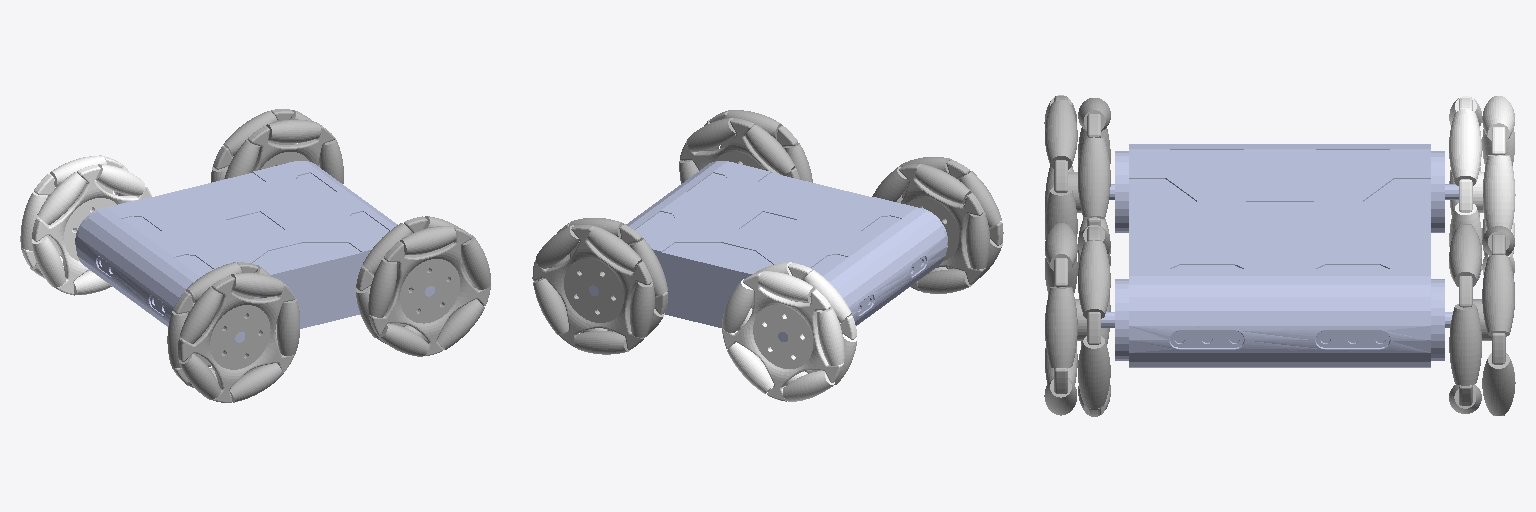
The robot description file, URDF, robot "my_rb":
<?xml version="1.0"?>
<robot name="my_rb">
  <link name="base_link">
    <inertial>
      <origin xyz="-1.98493976501235E-05 5.55111512312578E-17 -0.0175252786860416" rpy="0 0 0" />
      <mass value="1" />
      <inertia ixx="0.0001" ixy="0" ixz="0" iyy="0.0003" iyz="0" izz="0.0002" />
    </inertial>
    <visual>
      <origin xyz="0 0 0" rpy="0 0 0" />
      <geometry>
        <mesh filename="package://my_rb/meshes/base_link.STL" />
      </geometry>
      <material name="">
        <color rgba="0.792156862745098 0.819607843137255 0.933333333333333 1" />
      </material>
    </visual>
    <collision>
      <origin xyz="0 0 0" rpy="0 0 0" />
      <geometry>
        <mesh filename="package://my_rb/meshes/base_link.STL" />
      </geometry>
    </collision>
  </link>

  <!-- Adjusted friction and gravity settings in Gazebo -->
  <gazebo reference="base_link">
    <mu1>1000</mu1>
    <mu2>1000</mu2>
    <gravity>1</gravity>
    <material>Gazebo/Green</material>
  </gazebo>

  <!-- Adjusted dynamics and friction for wheels -->
  <gazebo reference="onewheel">
    <mu1>1000</mu1>
    <mu2>1000</mu2>
    <material>Gazebo/Grey</material>
  </gazebo>

  <gazebo reference="twowheel">
    <mu1>1000</mu1>
    <mu2>1000</mu2>
    <material>Gazebo/Grey</material>
  </gazebo>

  <gazebo reference="threewheel">
    <mu1>1000</mu1>
    <mu2>1000</mu2>
    <material>Gazebo/Grey</material>
  </gazebo>

  <gazebo reference="fourwheel">
    <mu1>1000</mu1>
    <mu2>1000</mu2>
    <material>Gazebo/Grey</material>
  </gazebo>

  <!-- onewheel -->
  <link name="onewheel">
    <inertial>
      <origin xyz="4.8699E-07 -4.1096E-05 -0.0065" rpy="0 0 0" />
      <mass value="0.1" />
      <inertia ixx="0.00002" ixy="0" ixz="0" iyy="0.00002" iyz="0" izz="0.0001" />
    </inertial>
    <visual>
      <origin xyz="0 0 0" rpy="0 0 0" />
      <geometry>
        <mesh filename="package://my_rb/meshes/onewheel.STL" />
      </geometry>
      <material name="">
        <color rgba="0.75294 0.75294 0.75294 1" />
      </material>
    </visual>
    <collision>
      <origin xyz="0 0 0" rpy="0 0 0" />
      <geometry>
        <mesh filename="package://my_rb/meshes/onewheel.STL" />
      </geometry>
    </collision>
  </link>

  <joint name="one_wheel" type="continuous">
    <origin xyz="0.055 -0.08 -0.0175" rpy="1.5708 0 0" />
    <parent link="base_link" />
    <child link="onewheel" />
    <axis xyz="0 0 1" />
    <limit effort="10" velocity="10" />
    <dynamics damping="5.0" friction="5.0" />
    <gazebo>
      <joint_friction>10.0</joint_friction>
    </gazebo>
  </joint>

  <!-- twowheel -->
  <link name="twowheel">
    <inertial>
      <origin xyz="-1.1222E-05 3.9616E-05 -0.0065" rpy="0 0 0" />
      <mass value="0.1" />
      <inertia ixx="0.00002" ixy="0" ixz="0" iyy="0.00002" iyz="0" izz="0.0001" />
    </inertial>
    <visual>
      <origin xyz="0 0 0" rpy="0 0 0" />
      <geometry>
        <mesh filename="package://my_rb/meshes/twowheel.STL" />
      </geometry>
      <material name="">
        <color rgba="0.75294 0.75294 0.75294 1" />
      </material>
    </visual>
    <collision>
      <origin xyz="0 0 0" rpy="0 0 0" />
      <geometry>
        <mesh filename="package://my_rb/meshes/twowheel.STL" />
      </geometry>
    </collision>
  </link>

  <joint name="two_wheel" type="continuous">
    <origin xyz="-0.055 -0.08 -0.0175" rpy="1.5708 0 0" />
    <parent link="base_link" />
    <child link="twowheel" />
    <axis xyz="0 0 1" />
    <limit effort="10" velocity="10" />
    <dynamics damping="5.0" friction="5.0" />
    <gazebo>
      <joint_friction>10.0</joint_friction>
    </gazebo>
  </joint>

  <!-- threewheel -->
  <link name="threewheel">
    <inertial>
      <origin xyz="-1.8154E-05 -3.706E-05 -0.0065" rpy="0 0 0" />
      <mass value="0.1" />
      <inertia ixx="0.00002" ixy="0" ixz="0" iyy="0.00002" iyz="0" izz="0.0001" />
    </inertial>
    <visual>
      <origin xyz="0 0 0" rpy="0 0 0" />
      <geometry>
        <mesh filename="package://my_rb/meshes/threewheel.STL" />
      </geometry>
      <material name="">
        <color rgba="0.75294 0.75294 0.75294 1" />
      </material>
    </visual>
    <collision>
      <origin xyz="0 0 0" rpy="0 0 0" />
      <geometry>
        <mesh filename="package://my_rb/meshes/threewheel.STL" />
      </geometry>
    </collision>
  </link>

  <joint name="three_wheel" type="continuous">
    <origin xyz="0.055 0.08 -0.0175" rpy="1.5708 0 3.1416" />
    <parent link="base_link" />
    <child link="threewheel" />
    <axis xyz="0 0 1" />
    <limit effort="10" velocity="10" />
    <dynamics damping="5.0" friction="5.0" />
    <gazebo>
      <joint_friction>10.0</joint_friction>
    </gazebo>
  </joint>

  <!-- fourwheel -->
  <link name="fourwheel">
    <inertial>
      <origin xyz="0 0 0" rpy="0 0 0" />
      <mass value="0.1" />
      <inertia ixx="0.00002" ixy="0" ixz="0" iyy="0.00002" iyz="0" izz="0.0001" />
    </inertial>
    <visual>
      <origin xyz="0 0 0" rpy="0 0 0" />
      <geometry>
        <mesh filename="package://my_rb/meshes/fourwheel.STL" />
      </geometry>
      <material name="">
        <color rgba="1 1 1 1" />
      </material>
    </visual>
    <collision>
      <origin xyz="0 0 0" rpy="0 0 0" />
      <geometry>
        <mesh filename="package://my_rb/meshes/fourwheel.STL" />
      </geometry>
    </collision>
  </link>

  <joint name="four_wheel" type="continuous">
    <origin xyz="-0.055 0.08 -0.0175" rpy="1.5708 0 3.1416" />
    <parent link="base_link" />
    <child link="fourwheel" />
    <axis xyz="0 0 1" />
    <limit effort="10" velocity="10" />
    <dynamics damping="5.0" friction="5.0" />
    <gazebo>
      <joint_friction>10.0</joint_friction>
    </gazebo>
  </joint>
  <gazebo>
    <plugin name="four_wheeled_robot_diff_drive" filename="libgazebo_ros_diff_drive.so">
 
      <update_rate>100</update_rate>
      <num_wheel_pairs>2</num_wheel_pairs>
      <!-- wheels -->
      <left_joint>three_wheel</left_joint>
      <right_joint>one_wheel</right_joint>
      
      <left_joint>four_wheel</left_joint>
      <right_joint>two_wheel</right_joint>

      <!-- kinematics -->
      <wheel_separation>0.135</wheel_separation> <!-- Khoảng cách giữa các bánh trước và sau -->
      <wheel_diameter>0.073</wheel_diameter> <!-- Đường kính bánh xe -->
 
      <!-- limits -->
      <max_wheel_torque>30</max_wheel_torque>
      <max_wheel_acceleration>30.0</max_wheel_acceleration>
 
      <!-- Receive velocity commands on this ROS topic -->
      <command_topic>cmd_vel</command_topic>
 
      <!-- output -->
      <!-- When false, publish no wheel odometry data to a ROS topic -->
      <publish_odom>true</publish_odom>
 
      <!-- When true, publish coordinate transform from odom to base_footprint -->
      <publish_odom_tf>true</publish_odom_tf>
     
      <!-- When true, publish coordinate transform from base_link to the wheels -->
      <publish_wheel_tf>true</publish_wheel_tf>
 
      <odometry_topic>odom</odometry_topic>
      <odometry_frame>odom_link</odometry_frame>
      <robot_base_frame>base_link</robot_base_frame>
 
      <odometry_source>1</odometry_source>
      <ros>
        <remapping>odom:=wheel/odometry</remapping>
      </ros>
    </plugin>
</gazebo>

<gazebo>
    <plugin name="gazebo_ros_joint_state_publisher"
        filename="libgazebo_ros_joint_state_publisher.so">
        <update_rate>100</update_rate>
        <joint_name>one_wheel</joint_name>
        <joint_name>two_wheel</joint_name>
        <joint_name>three_wheel</joint_name>
        <joint_name>four_wheel</joint_name>
    </plugin>
</gazebo>
</robot>

--- Render facts (derived) ---
3 views of the same robot in one strip: view 1: azimuth 30°, elevation 25°; view 2: azimuth 150°, elevation 25°; view 3: azimuth 270°, elevation 25° (orthographic).
Robot: my_rb — 5 links, 4 joints (4 continuous); root link base_link; default pose: every joint at zero.
Links seen in each view (by area): view 1: base_link, twowheel, onewheel, fourwheel, threewheel; view 2: base_link, threewheel, fourwheel, twowheel, onewheel; view 3: base_link, onewheel, threewheel, fourwheel, twowheel.
Boxes of the visible links, x1,y1,x2,y2 form: base_link: (75,161,434,342); twowheel: (167,262,299,402); onewheel: (356,216,490,356); fourwheel: (20,155,151,295); threewheel: (211,109,343,183); base_link: (589,161,947,341); threewheel: (532,218,667,354); fourwheel: (722,262,856,401); twowheel: (872,157,1003,293); onewheel: (679,110,812,183); base_link: (1101,144,1458,367); onewheel: (1044,223,1110,416); threewheel: (1449,224,1515,415); fourwheel: (1449,96,1515,280); twowheel: (1044,95,1110,267).
Size in the robot's own frame: 0.1805 by 0.1712 by 0.0706 metres.
5 mesh visuals loaded from 5 distinct referenced files (5 binary STL).